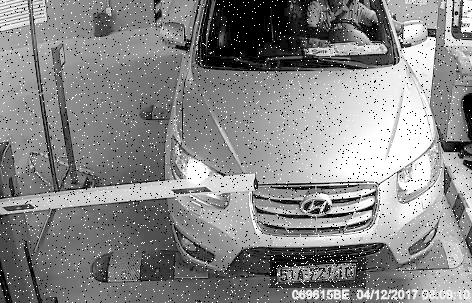License-plate: (271, 256, 367, 289)
